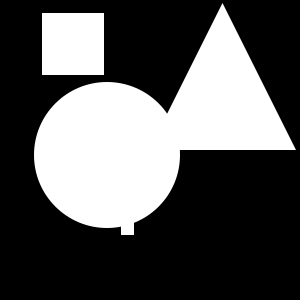circle: (42, 13, 104, 75), (40, 127, 59, 146), (121, 222, 134, 235)
rectangle: (34, 82, 180, 228)
triangle: (149, 3, 296, 150)
